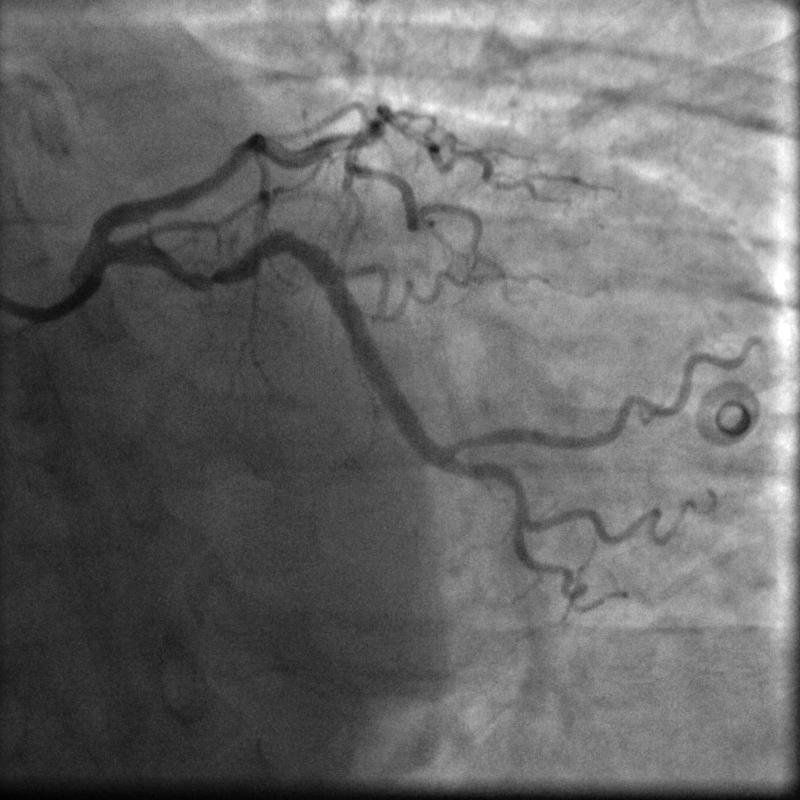Stenosis: (183, 263, 235, 294)
